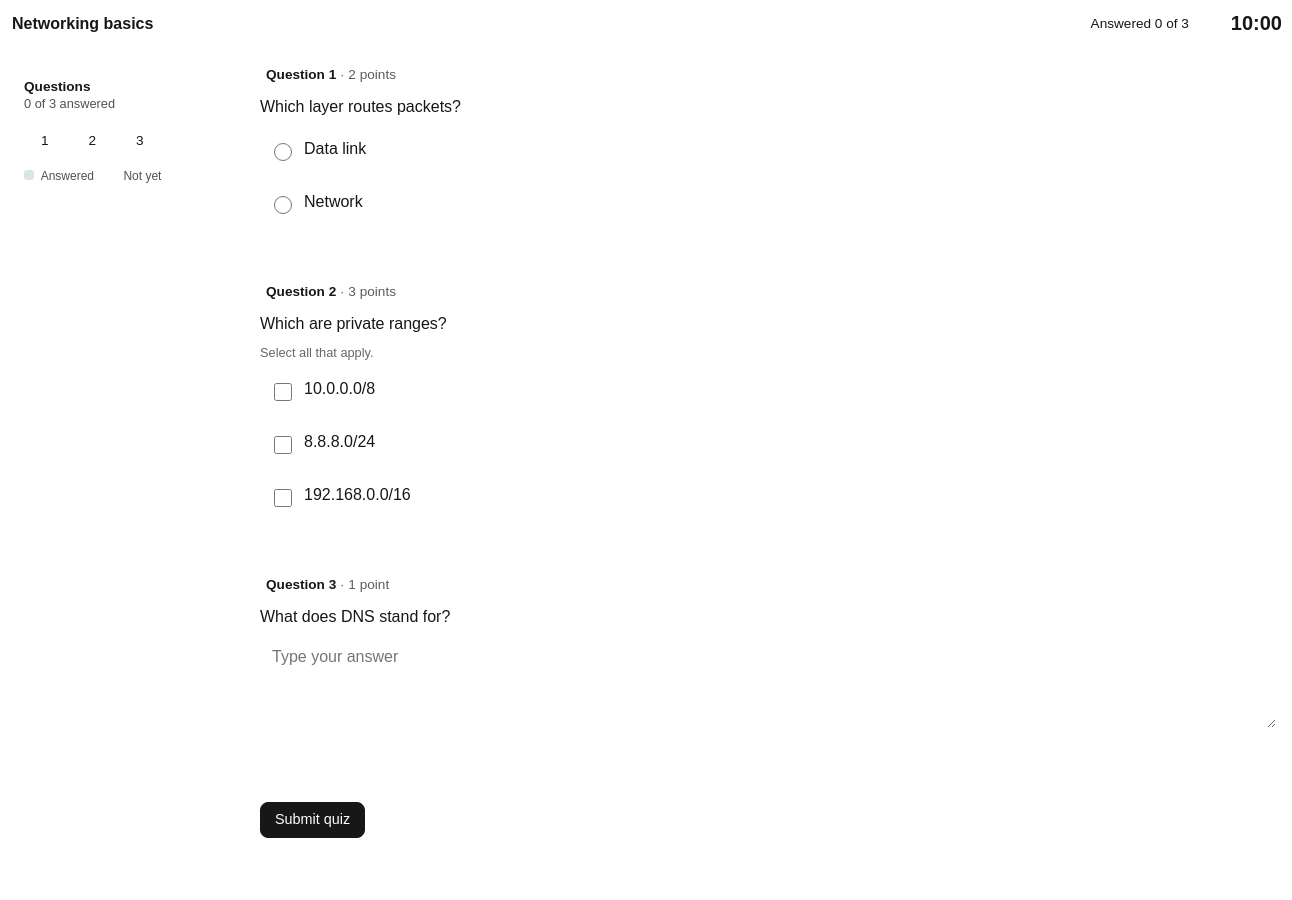
Test: AttemptRunner › saves a chosen option at once, and shows that it was saved
This screenshot has width=1292, height=900.
Step 1. Click the radio button labelled "Network" → (283, 205), box [274,196,292,214]
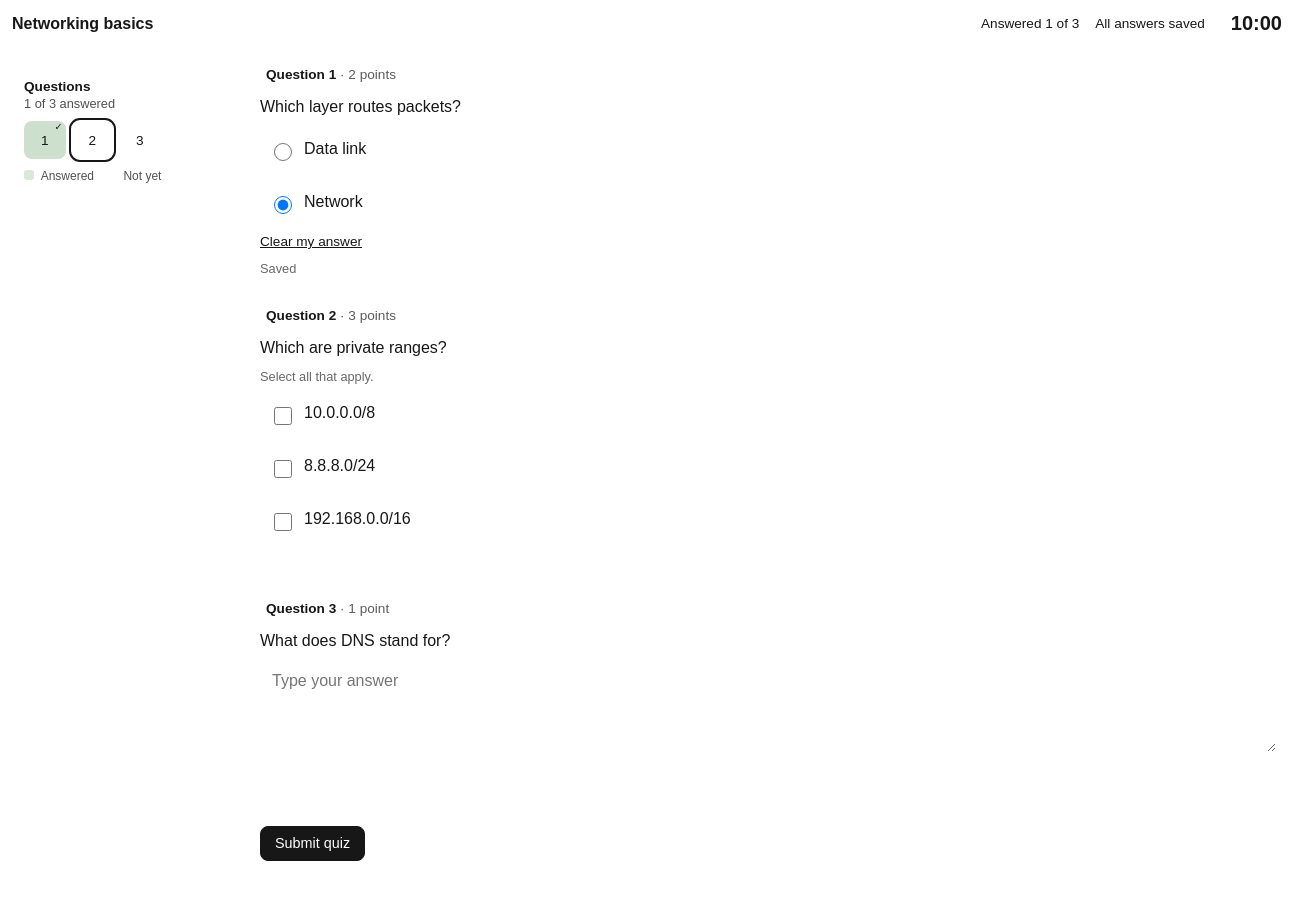
Now the text "Answered 1 of 3" is shown, box [981,16,1079,31]
Now the text "All answers saved" is shown, box [1095,16,1205,31]
